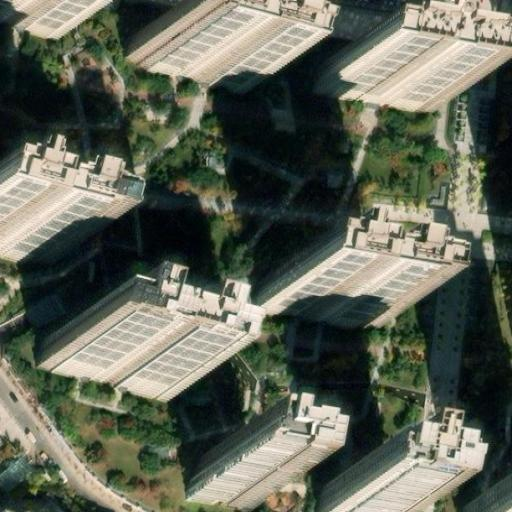building: (36, 325, 174, 399), (126, 26, 251, 90), (254, 274, 378, 329), (313, 60, 438, 110), (193, 454, 263, 507), (317, 471, 404, 512), (0, 210, 56, 262), (474, 486, 512, 512)
